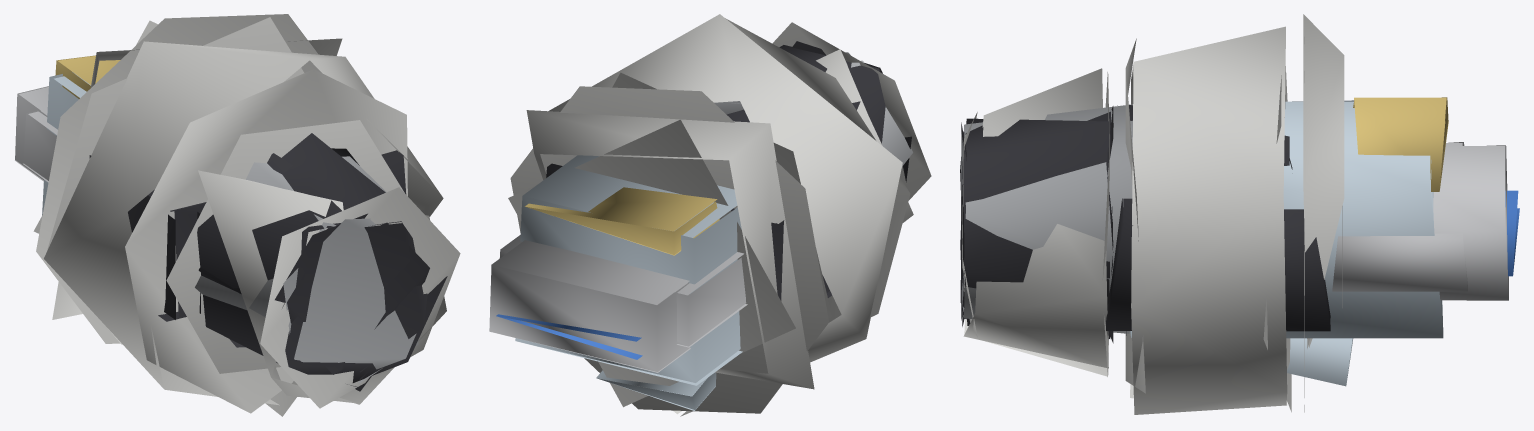
The model's file is plugs_lod.glb.
The picture shows the model from 3 angles, left to right: view 1: azimuth 30°, elevation 25°; view 2: azimuth 150°, elevation 25°; view 3: azimuth 270°, elevation 25°; orthographic projection. The views are drawn at different scales.
Parts seen in each view (by area): view 1: plug_power, plug_hdmi, plug_network, plug_usb, plug_jack; view 2: plug_power, plug_network, plug_usb, plug_hdmi; view 3: plug_power, plug_network, plug_hdmi, plug_usb, plug_jack.
Boxes of the visible parts, bbox=[...] form: plug_power: bbox=[33, 14, 460, 416]; plug_hdmi: bbox=[23, 110, 447, 391]; plug_network: bbox=[42, 55, 418, 385]; plug_usb: bbox=[15, 86, 427, 379]; plug_jack: bbox=[267, 153, 429, 374]; plug_power: bbox=[508, 14, 931, 416]; plug_network: bbox=[515, 52, 912, 410]; plug_usb: bbox=[489, 240, 690, 372]; plug_hdmi: bbox=[499, 41, 911, 347]; plug_power: bbox=[962, 14, 1344, 414]; plug_network: bbox=[961, 97, 1448, 386]; plug_hdmi: bbox=[961, 105, 1467, 343]; plug_usb: bbox=[960, 123, 1519, 318]; plug_jack: bbox=[960, 104, 1292, 335].
Bounding box in the file's own units: 0.196 × 0.2007 × 0.2774.
